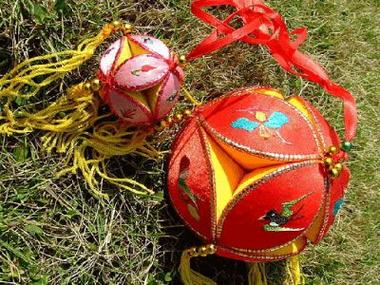xiuqiu: (165, 87, 345, 264)
